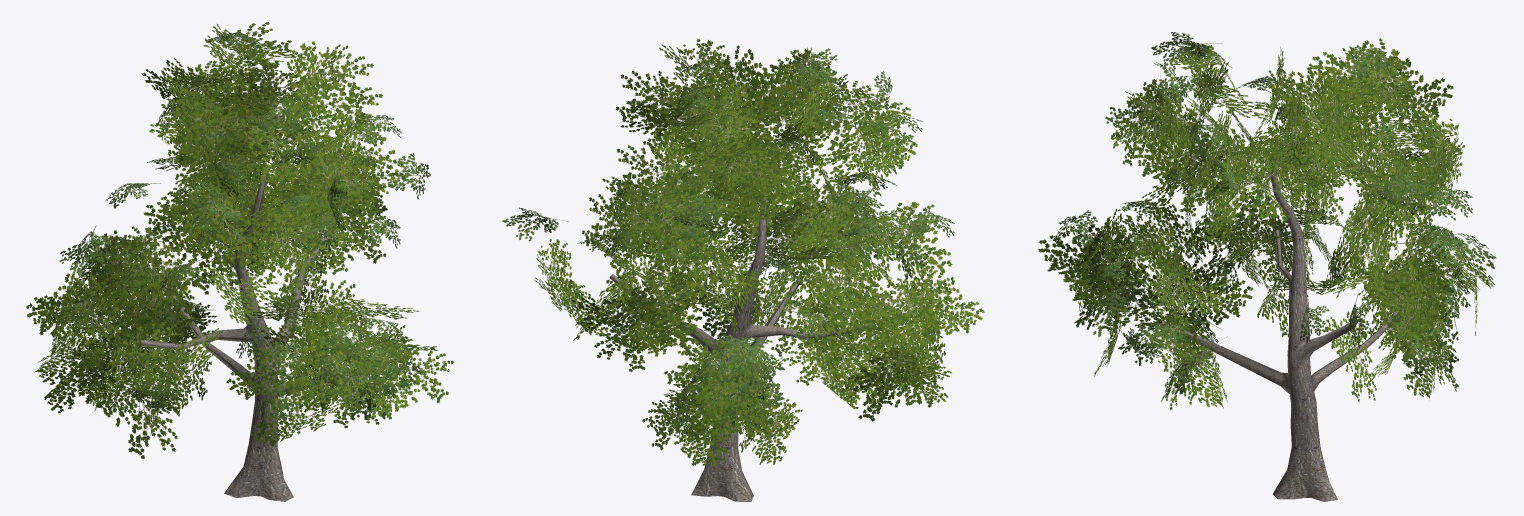
Rendered from Tree_LOD2.glb.
3 renders of one model, left to right at view 1: azimuth 30°, elevation 25°; view 2: azimuth 150°, elevation 25°; view 3: azimuth 270°, elevation 25°, orthographic. The views are drawn at different scales.
Parts seen in each view (by area): view 1: Tree_LOD2; view 2: Tree_LOD2; view 3: Tree_LOD2.
Part boxes in pixels (x1=…): Tree_LOD2: x1=26, y1=22, x2=454, y2=501; Tree_LOD2: x1=502, y1=38, x2=984, y2=501; Tree_LOD2: x1=1038, y1=32, x2=1496, y2=501.
Bounding box in the file's own units: 20.12 × 19.53 × 18.53.
5 materials, 5 textured.
